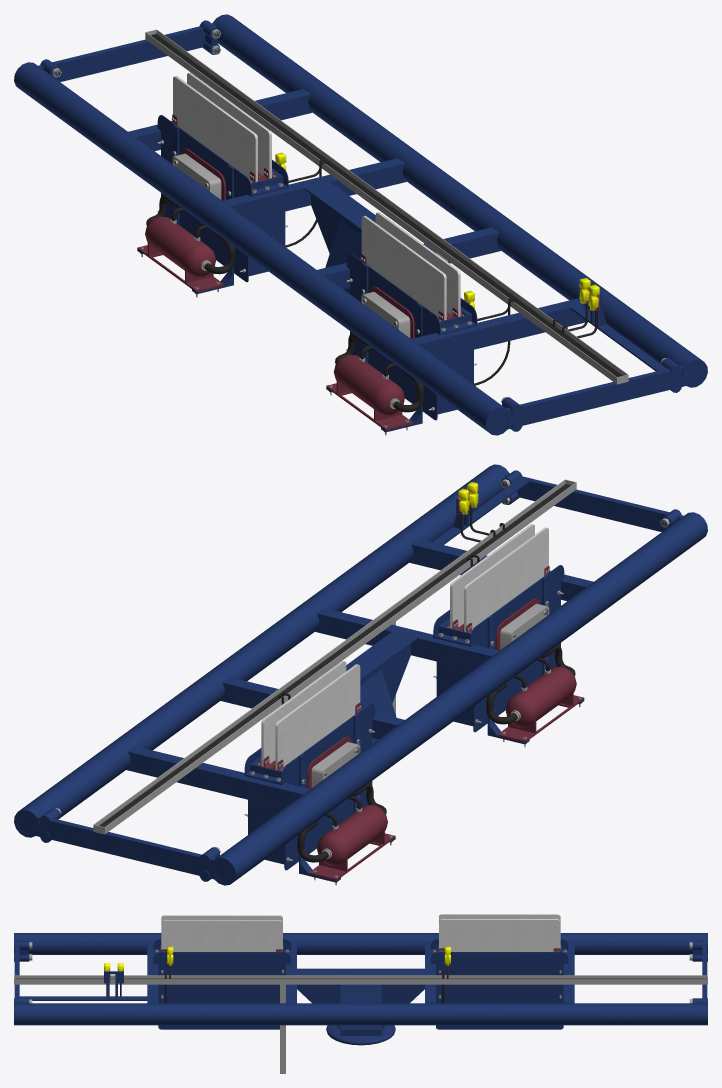
Rendered from Trim Section (Retractable with start sensor).dae.
3 renders of one model, top to bottom at view 1: azimuth 30°, elevation 25°; view 2: azimuth 150°, elevation 25°; view 3: azimuth 270°, elevation 25°, orthographic. The views are drawn at different scales.
Visible parts, largest first — view 1: Track (×7), Mid_Detail (×4), High_Detail (×7), Fins (×4); view 2: Track (×7), Mid_Detail (×4), High_Detail (×7), Fins (×4); view 3: Track (×6), Mid_Detail (×4), Fins (×4), High_Detail (×2).
Boxes of the visible parts, left/top/right/bottom form: Track (×7): left=14, top=14, right=707, bottom=435; Mid_Detail (×4): left=145, top=29, right=628, bottom=420; High_Detail (×7): left=137, top=33, right=666, bottom=430; Fins (×4): left=173, top=72, right=460, bottom=320; Track (×7): left=14, top=464, right=707, bottom=885; Mid_Detail (×4): left=93, top=479, right=576, bottom=870; High_Detail (×7): left=99, top=478, right=584, bottom=880; Fins (×4): left=261, top=524, right=548, bottom=770; Track (×6): left=14, top=933, right=707, bottom=1045; Mid_Detail (×4): left=14, top=939, right=707, bottom=1073; Fins (×4): left=161, top=914, right=560, bottom=951; High_Detail (×2): left=15, top=971, right=706, bottom=1000.
Bounding box in the file's own units: 53.48 × 197 × 40.52.
12 materials, 6 textured.
